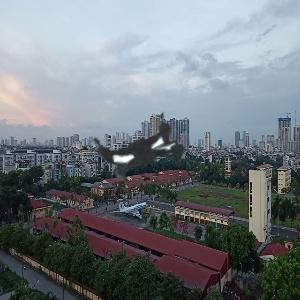drone: (20, 25, 272, 277)
